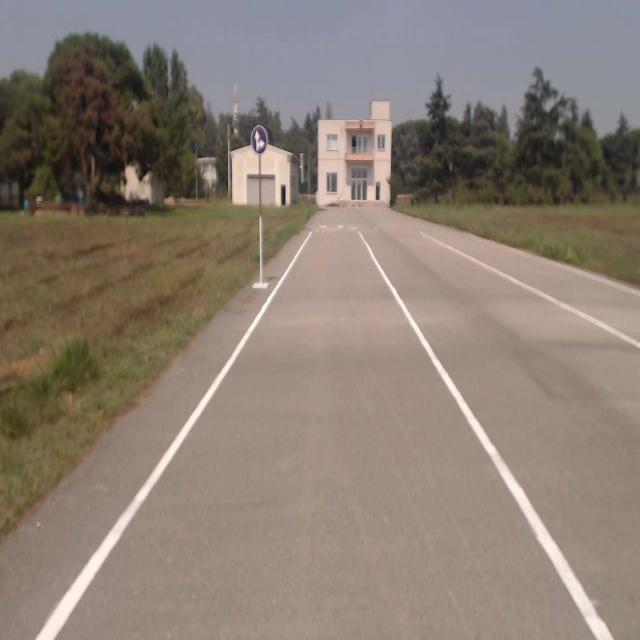ilerisag: (250, 127, 267, 156)
